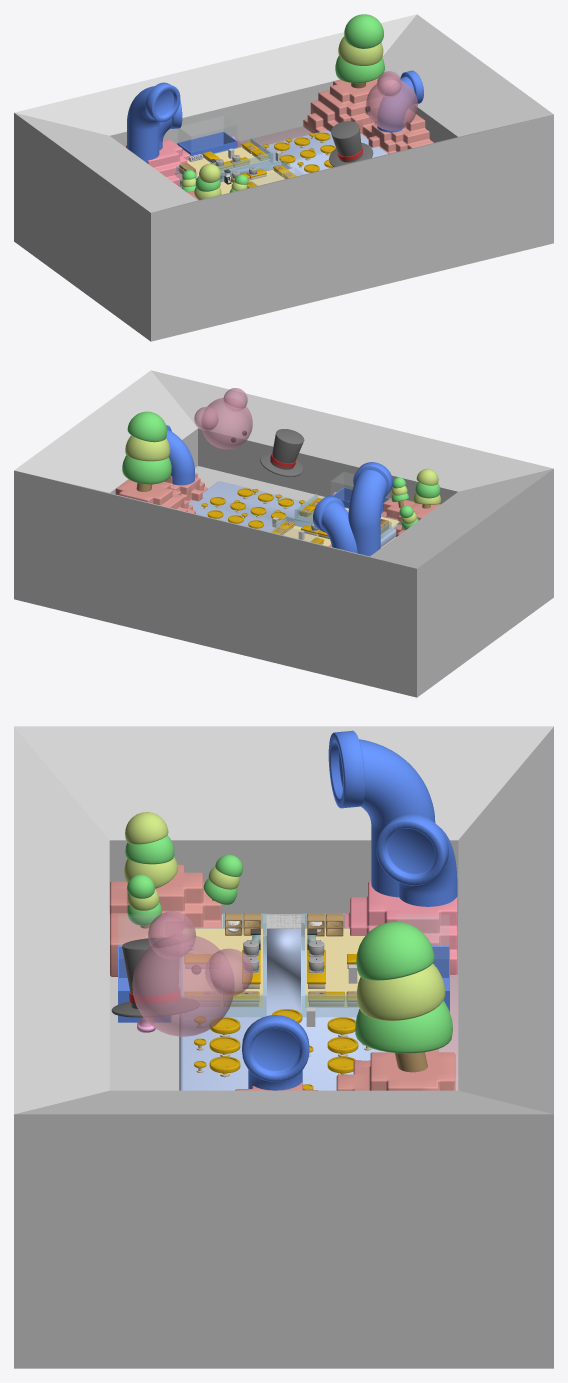
The model's file is world_stage02(25.03.08).fbx.
3 views of the same model, one above another, from view 1: azimuth 30°, elevation 25°; view 2: azimuth 150°, elevation 25°; view 3: azimuth 270°, elevation 25° (orthographic). The views are drawn at different scales.
Parts seen in each view (by area): view 1: world.001, world_map, play_map, sky_deco, stage02_jellymachine, stage02_table, world.002; view 2: world.001, world_map, sky_deco, play_map, stage02_table, world.002, stage02_jellymachine; view 3: world.001, world_map, play_map, sky_deco, world.002, stage02_jellymachine, stage02_table.
Part boxes in pixels (x1=…): world.001: x1=14, y1=14, x2=553, y2=341; world_map: x1=126, y1=14, x2=433, y2=200; play_map: x1=175, y1=130, x2=387, y2=194; sky_deco: x1=329, y1=71, x2=417, y2=167; stage02_jellymachine: x1=177, y1=116, x2=303, y2=187; stage02_table: x1=263, y1=132, x2=335, y2=173; world.002: x1=180, y1=126, x2=311, y2=187; world.001: x1=14, y1=370, x2=553, y2=697; world_map: x1=115, y1=411, x2=440, y2=556; sky_deco: x1=194, y1=388, x2=304, y2=476; play_map: x1=188, y1=481, x2=400, y2=546; stage02_table: x1=201, y1=488, x2=304, y2=529; world.002: x1=195, y1=466, x2=395, y2=548; stage02_jellymachine: x1=264, y1=472, x2=389, y2=543; world.001: x1=14, y1=726, x2=553, y2=1368; world_map: x1=110, y1=730, x2=458, y2=1090; play_map: x1=179, y1=913, x2=386, y2=1090; sky_deco: x1=111, y1=911, x2=252, y2=1036; world.002: x1=109, y1=914, x2=458, y2=1090; stage02_jellymachine: x1=118, y1=914, x2=449, y2=1032; stage02_table: x1=194, y1=1009, x2=371, y2=1089.
Bounding box in the file's own units: 52.67 × 22.38 × 30.98.
